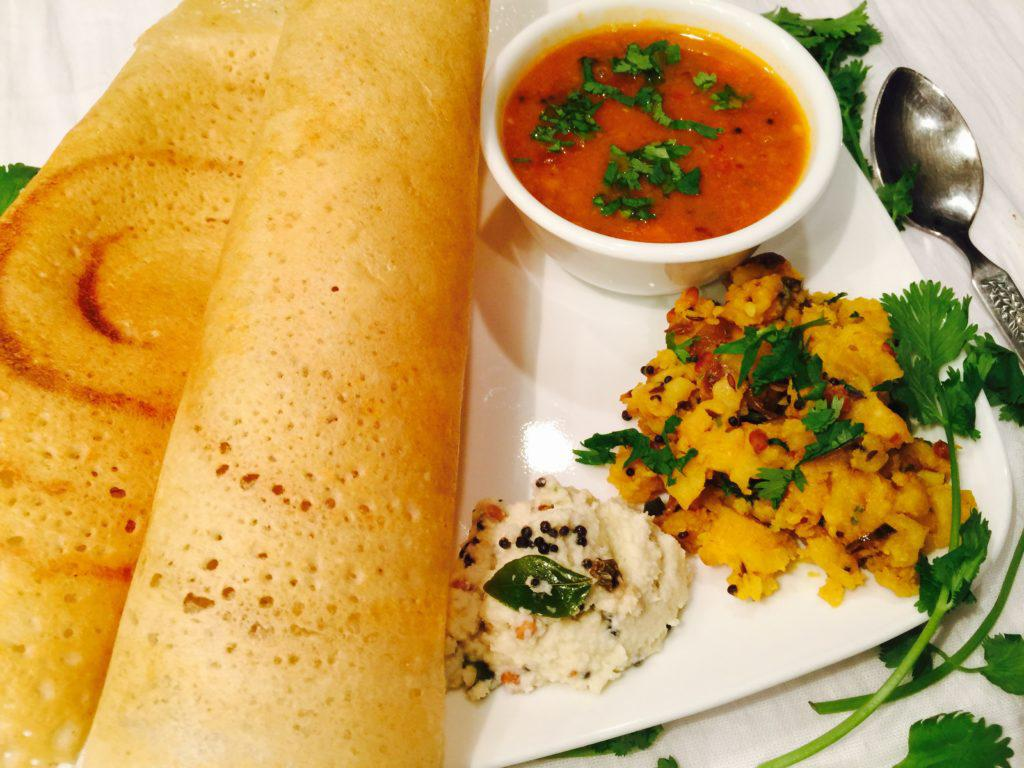dosa: (99, 2, 494, 768)
